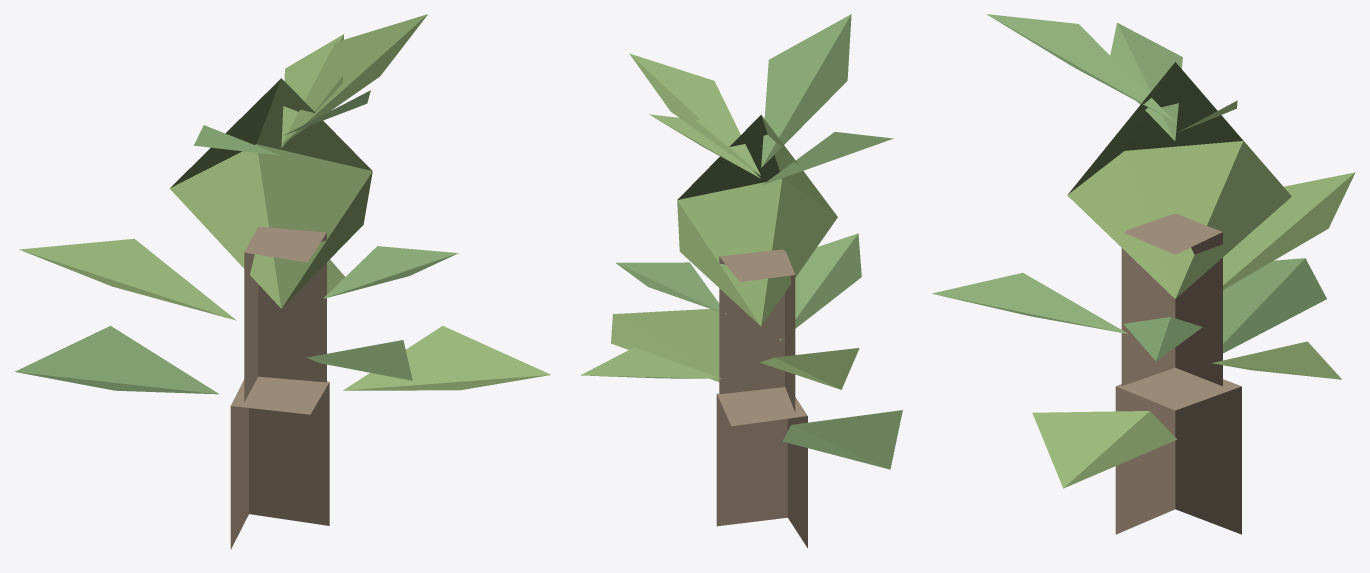
Rendered from cao.shamo@seedling__spring.glb.
3 views of the same model, side by side, from view 1: azimuth 30°, elevation 25°; view 2: azimuth 150°, elevation 25°; view 3: azimuth 270°, elevation 25° (orthographic). The views are drawn at different scales.
Parts seen in each view (by area): view 1: cao.shamo@seedling__spring; view 2: cao.shamo@seedling__spring; view 3: cao.shamo@seedling__spring.
Part boxes in pixels (<box>): cao.shamo@seedling__spring: <box>14,14,550,549</box>; cao.shamo@seedling__spring: <box>581,14,902,548</box>; cao.shamo@seedling__spring: <box>932,14,1355,534</box>.
Bounding box in the file's own units: 0.1237 × 0.1417 × 0.1053.
